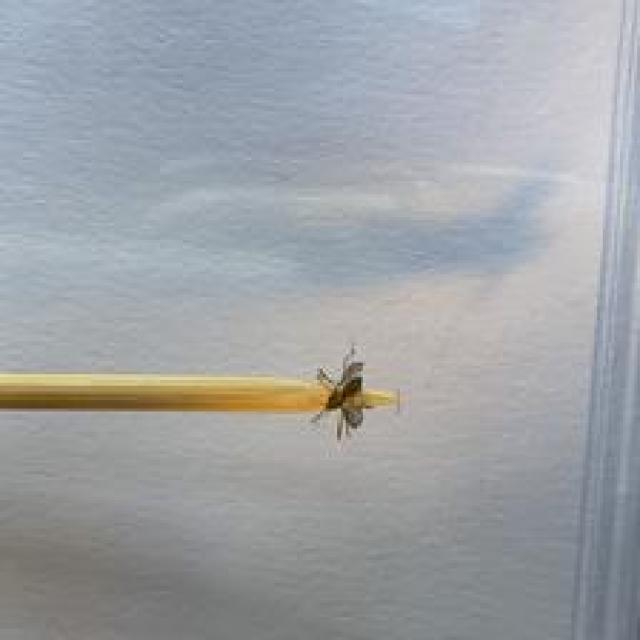Culex: (0, 342, 400, 442)
